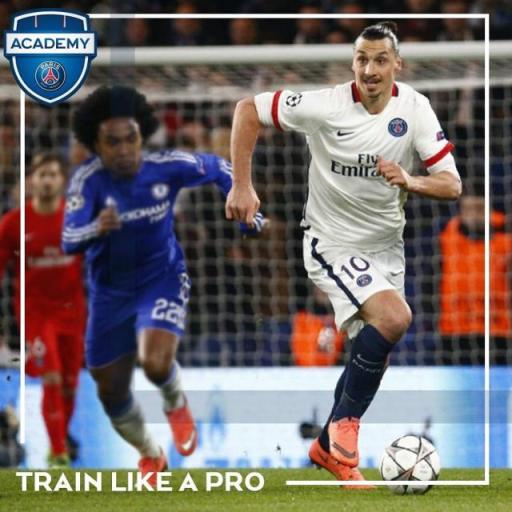Emirates: (328, 151, 390, 181)
